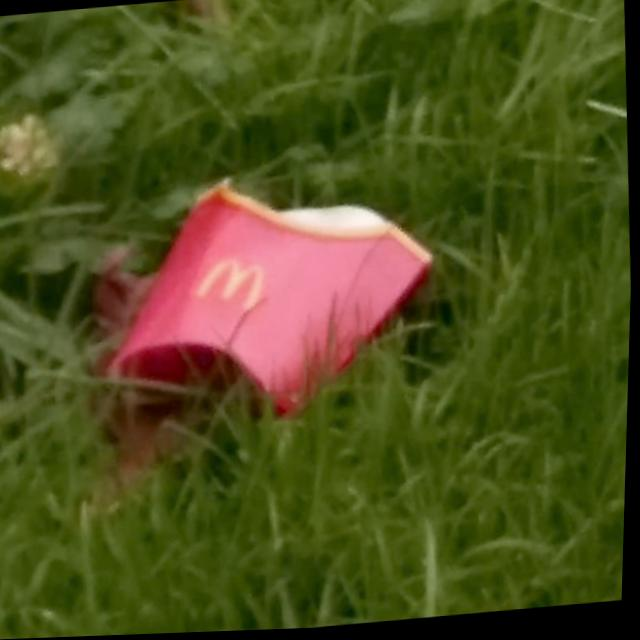Paper: (96, 158, 452, 449)
